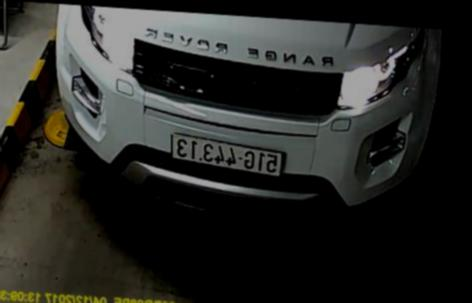License_Plate: (168, 138, 285, 176)
